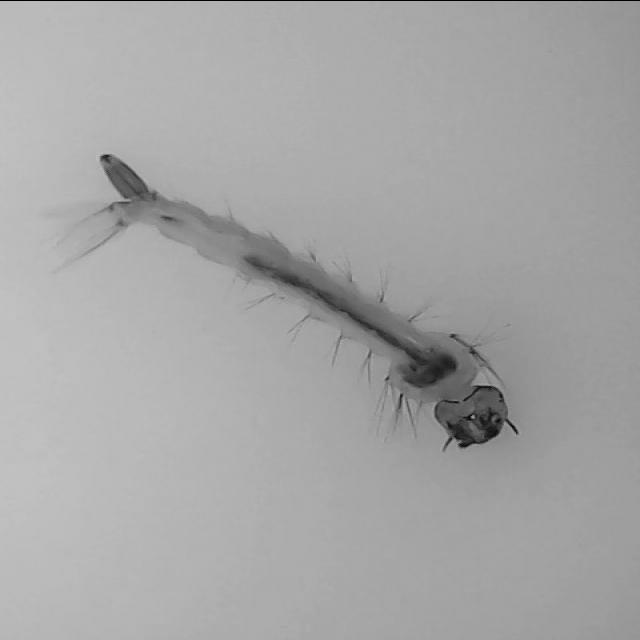larvas: (87, 153, 510, 447)
